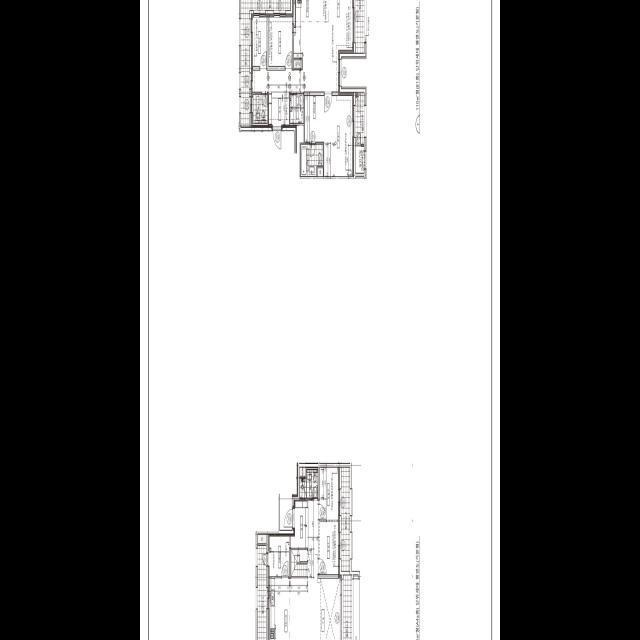background: (140, 0, 500, 640)
space_balconi: (241, 0, 291, 126), (341, 467, 350, 570), (258, 545, 266, 640), (343, 575, 352, 640), (356, 0, 364, 52), (356, 92, 364, 144)
space_bedroom: (324, 92, 354, 176), (269, 13, 292, 66), (320, 521, 340, 574), (320, 467, 340, 519), (251, 13, 267, 67)
space_dressroom: (305, 95, 324, 141)
space_front: (291, 500, 308, 547), (269, 91, 289, 129)
space_kitchen: (294, 0, 320, 57), (268, 578, 289, 640)
space_living_room: (251, 0, 354, 91), (289, 500, 342, 640)
space_multipurpose_space: (268, 534, 289, 576)
space_other: (290, 95, 304, 123), (297, 125, 304, 176), (292, 0, 295, 25), (258, 534, 266, 543), (294, 59, 302, 67), (300, 467, 306, 475), (318, 167, 323, 176)
space_outdoor_room: (356, 146, 364, 172)
space_staircase: (291, 549, 308, 576)
space_toilet: (301, 144, 323, 176), (300, 469, 318, 497), (253, 94, 267, 123)
